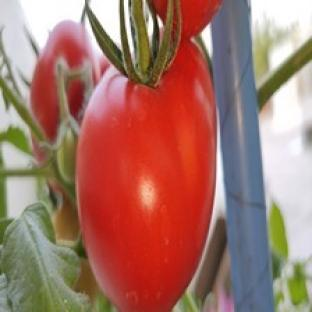Tomato: (77, 41, 215, 311), (31, 20, 100, 142)
